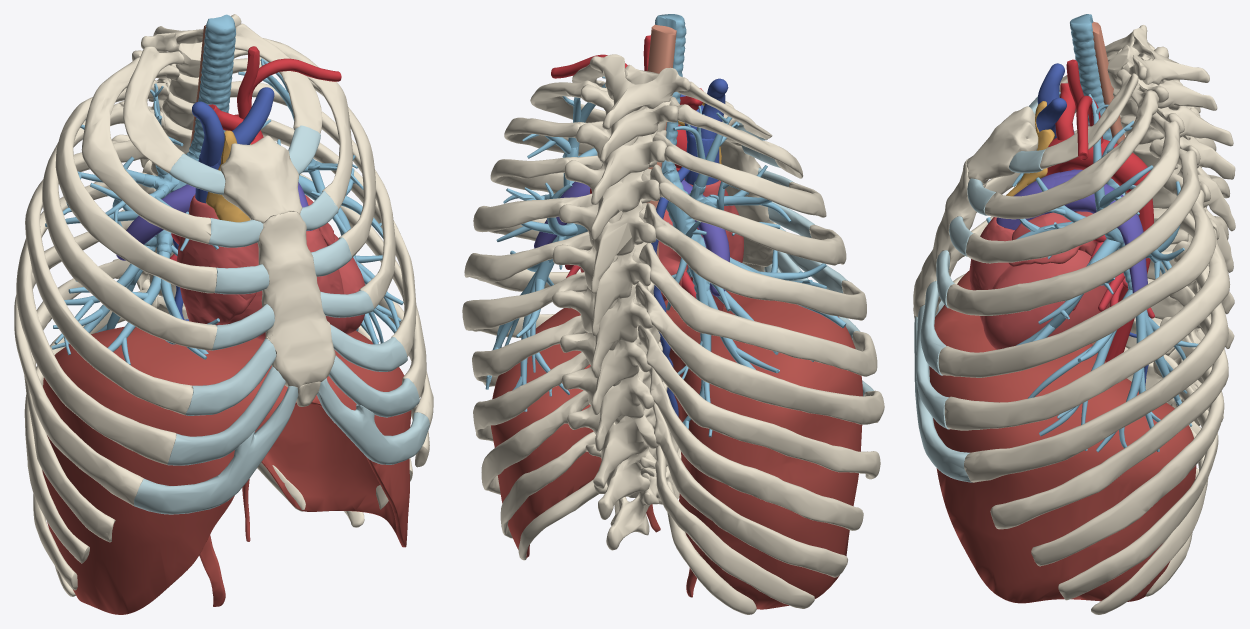
File: thorax.glb
3 renders of one model, left to right at view 1: azimuth 30°, elevation 25°; view 2: azimuth 150°, elevation 25°; view 3: azimuth 270°, elevation 25°, orthographic. The views are drawn at different scales.
Visible parts, largest first — view 1: диафрагма, тело грудины, 4-е ребро правое, 5-е ребро правое, 6-е ребро правое, 3-е ребро правое, 2-е ребро правое, 7-й рёберный хрящ правый, 7-е ребро правое, рукоятка грудины, стенка правого предсердия, 1-е ребро правое (+39 smaller); view 2: диафрагма, 7-е ребро правое, 6-е ребро правое, 8-е ребро правое, 9-е ребро правое, 5-е ребро правое, 10-е ребро правое, 4-е ребро правое, 11-е ребро правое, Th1, 3-е ребро правое, Th7 (+38 smaller); view 3: диафрагма, 6-е ребро левое, 5-е ребро левое, 7-е ребро левое, 4-е ребро левое, 8-е ребро левое, 3-е ребро левое, стенки желудочков, 9-е ребро левое, 2-е ребро левое, 10-е ребро левое, рукоятка грудины (+41 smaller).
Part boxes in pixels (box(x1,y1,x2,y2)): диафрагма: box(42, 326, 411, 614); тело грудины: box(257, 211, 335, 387); 4-е ребро правое: box(42, 103, 217, 350); 5-е ребро правое: box(25, 140, 193, 415); 6-е ребро правое: box(16, 172, 176, 464); 3-е ребро правое: box(55, 82, 216, 293); 2-е ребро правое: box(81, 57, 211, 243); 7-й рёберный хрящ правый: box(134, 386, 298, 514); 7-е ребро правое: box(14, 209, 143, 505); рукоятка грудины: box(220, 135, 302, 223); стенка правого предсердия: box(177, 194, 258, 325); 1-е ребро правое: box(123, 46, 184, 173); диафрагма: box(491, 291, 862, 609); 7-е ребро правое: box(635, 281, 884, 424); 6-е ребро правое: box(639, 243, 877, 376); 8-е ребро правое: box(638, 325, 880, 479); 9-е ребро правое: box(649, 367, 863, 530); 5-е ребро правое: box(643, 203, 866, 320); 10-е ребро правое: box(652, 402, 847, 577); 4-е ребро правое: box(650, 164, 846, 265); 11-е ребро правое: box(655, 446, 814, 608); Th1: box(590, 54, 690, 129); 3-е ребро правое: box(652, 130, 826, 217); Th7: box(552, 281, 654, 378); диафрагма: box(929, 270, 1196, 603); 6-е ребро левое: box(944, 213, 1230, 430); 5-е ребро левое: box(938, 172, 1216, 377); 7-е ребро левое: box(964, 241, 1228, 482); 4-е ребро левое: box(946, 139, 1200, 315); 8-е ребро левое: box(990, 286, 1228, 529); 3-е ребро левое: box(966, 112, 1179, 263); стенки желудочков: box(969, 217, 1109, 349); 9-е ребро левое: box(1031, 317, 1224, 566); 2-е ребро левое: box(984, 88, 1158, 219); 10-е ребро левое: box(1058, 354, 1218, 600); рукоятка грудины: box(966, 106, 1038, 184).
Bounding box in the file's own units: 0.2728 × 0.4095 × 0.2139.
